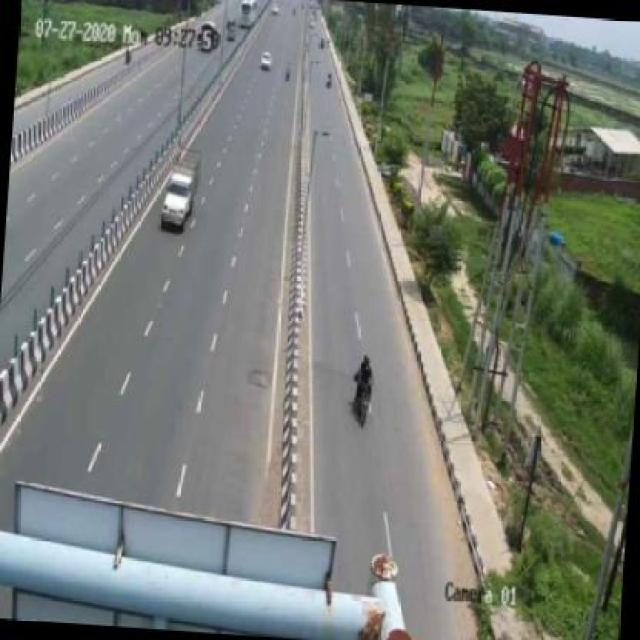car: (157, 140, 208, 240), (258, 46, 278, 77)
